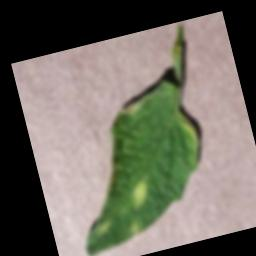Leaf_Mold: (176, 108, 203, 159), (123, 174, 156, 210), (92, 216, 117, 239), (121, 98, 148, 117), (125, 216, 146, 237)
